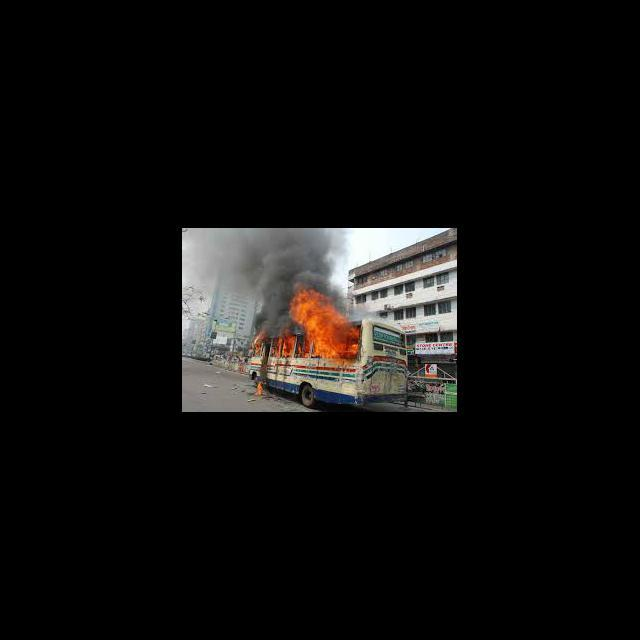Fire: (291, 288, 362, 363), (248, 332, 266, 356), (284, 335, 296, 359), (252, 378, 266, 398), (272, 337, 283, 358)
Smoke: (200, 228, 346, 284), (250, 284, 288, 327)
